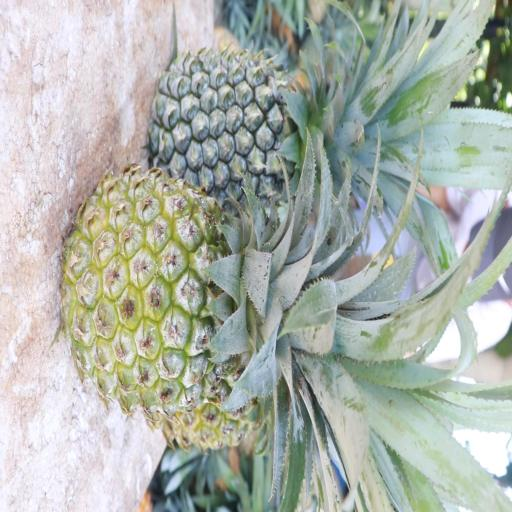------------------------------: (58, 166, 344, 419)
